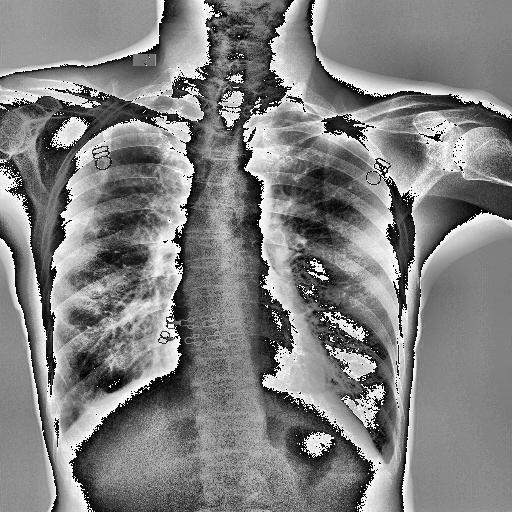10- Pleural effusion: (47, 414, 73, 444), (376, 445, 400, 476)
11- Pleural thickening: (110, 88, 184, 120), (92, 95, 160, 127), (44, 409, 70, 448), (47, 414, 73, 444), (376, 445, 400, 476), (80, 400, 98, 412), (126, 375, 140, 386)
13- Pulmonary fibrosis: (70, 153, 174, 232), (294, 110, 324, 124)
7- Lung Opacity: (294, 110, 324, 124), (88, 223, 102, 234)
8- Nodule-Mass: (344, 292, 370, 306)
9- Other lesion: (70, 153, 174, 232)
